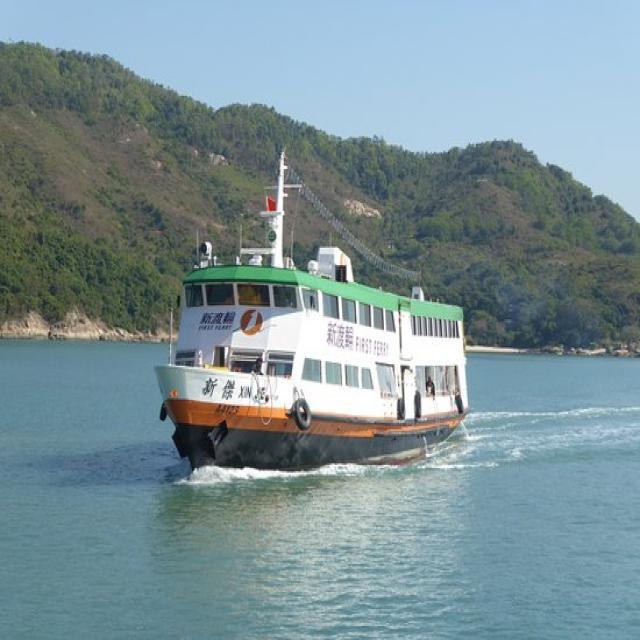passenger ship: (162, 168, 470, 441)
